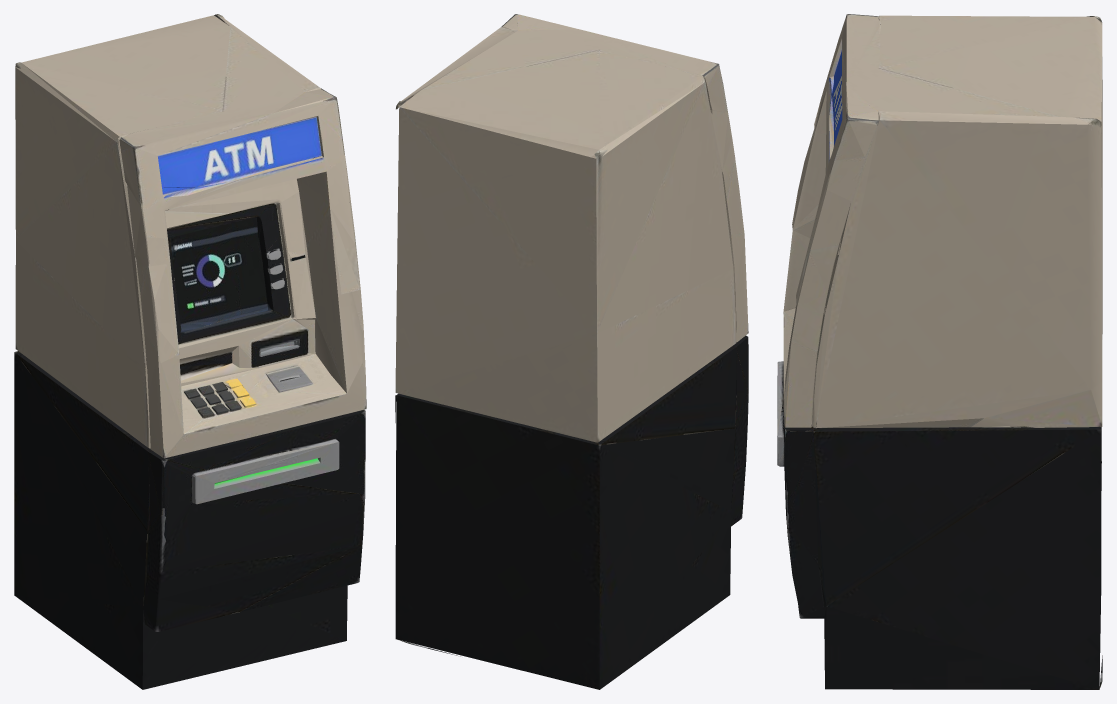
Rendered from atm.glb.
The picture shows the model from 3 angles, left to right: view 1: azimuth 30°, elevation 25°; view 2: azimuth 150°, elevation 25°; view 3: azimuth 270°, elevation 25°; orthographic projection. The views are drawn at different scales.
Size of the model in its own units: 0.7631 by 1.9 by 0.981.
Materials: 1 (1 with a texture image).
